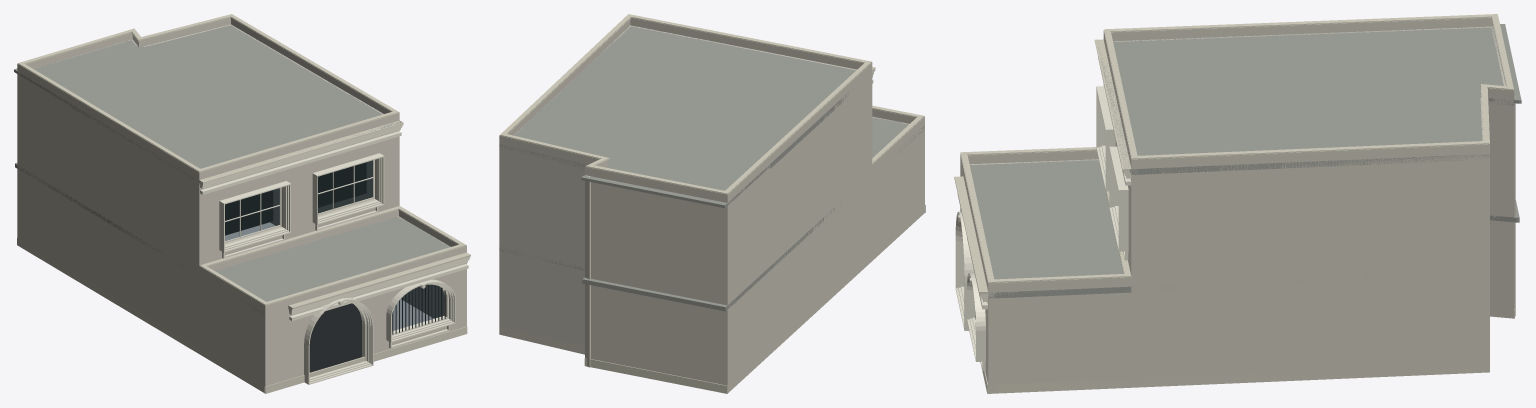
The model's file is building.glb.
3 views of the same model, side by side, from view 1: azimuth 30°, elevation 25°; view 2: azimuth 150°, elevation 25°; view 3: azimuth 270°, elevation 25° (orthographic). The views are drawn at different scales.
Visible parts, largest first — view 1: house:0/edge0/z0/house:0/edge0/z0/wall_0_0, roof/house:0/roof_slab#0001, roof/garage:0/roof_slab#0001, house:0/edge1/z0/house:0/edge1/z0/wall_0_0/core0, garage:0/edge0/z0/garage:0/edge0/z0/wall_0_0, roof/house:0/parapet#0001, roof/garage:0/parapet#0001, roof/house:0/parapet_cap#0002, garage:0/edge2/z0/opening_u0.79_v0.05/gate_panel#0001, house:0/edge1/z0/opening_u4.96_v3.90/glazing#0001, house:0/edge1/z0/opening_u0.98_v3.90/glazing#0001, roof/garage:0/parapet_cap#0002 (+30 smaller); view 2: roof/house:0/roof_slab#0001, house:0/edge0/z0/house:0/edge0/z0/wall_0_0, house:0/edge5/z0/house:0/edge5/z0/wall_0_0/core0, house:0/edge3/z0/house:0/edge3/z0/wall_0_0, roof/house:0/parapet#0001, garage:0/edge0/z0/garage:0/edge0/z0/wall_0_0, roof/house:0/parapet_cap#0002, roof/house:0/parapet_cap#0001, house:0/edge5/z0/plinth#0001, house:0/edge4/z0/house:0/edge4/z0/wall_0_0, house:0/edge5/z0/floor_slab#0001, house:0/edge5/z0/top_cornice#0001 (+6 smaller); view 3: house:0/edge2/z0/house:0/edge2/z0/wall_0_0, roof/house:0/roof_slab#0001, roof/garage:0/roof_slab#0001, garage:0/edge3/z0/garage:0/edge3/z0/wall_0_0/core0, roof/house:0/parapet#0001, house:0/edge4/z0/house:0/edge4/z0/wall_0_0, roof/house:0/parapet_cap#0002, roof/garage:0/parapet#0001, roof/house:0/parapet_cap#0001, roof/garage:0/parapet_cap#0002, house:0/edge1/z0/proj_moulded_surround_06/surround_moulding#, house:0/edge1/z0/proj_cornice_08/cornice_drip#0001/clip1 (+12 smaller).
Part boxes in pixels (box(x1,y1,x2,y2)): house:0/edge0/z0/house:0/edge0/z0/wall_0_0: box(17, 73, 199, 353); roof/house:0/roof_slab#0001: box(33, 25, 382, 168); roof/garage:0/roof_slab#0001: box(215, 216, 450, 314); house:0/edge1/z0/house:0/edge1/z0/wall_0_0/core0: box(199, 131, 394, 265); garage:0/edge0/z0/garage:0/edge0/z0/wall_0_0: box(199, 274, 265, 392); roof/house:0/parapet#0001: box(17, 18, 399, 179); roof/garage:0/parapet#0001: box(199, 210, 466, 312); roof/house:0/parapet_cap#0002: box(18, 14, 399, 171); garage:0/edge2/z0/opening_u0.79_v0.05/gate_panel#0001: box(309, 303, 361, 372); house:0/edge1/z0/opening_u4.96_v3.90/glazing#0001: box(318, 160, 372, 213); house:0/edge1/z0/opening_u0.98_v3.90/glazing#0001: box(225, 188, 279, 240); roof/garage:0/parapet_cap#0002: box(199, 206, 465, 304); roof/house:0/roof_slab#0001: box(499, 25, 855, 190); house:0/edge0/z0/house:0/edge0/z0/wall_0_0: box(722, 71, 872, 392); house:0/edge5/z0/house:0/edge5/z0/wall_0_0/core0: box(591, 182, 721, 384); house:0/edge3/z0/house:0/edge3/z0/wall_0_0: box(499, 144, 587, 354); roof/house:0/parapet#0001: box(499, 19, 872, 202); garage:0/edge0/z0/garage:0/edge0/z0/wall_0_0: box(872, 125, 924, 260); roof/house:0/parapet_cap#0002: box(500, 14, 871, 194); roof/house:0/parapet_cap#0001: box(499, 17, 872, 195); house:0/edge5/z0/plinth#0001: box(584, 358, 727, 393); house:0/edge4/z0/house:0/edge4/z0/wall_0_0: box(585, 175, 590, 367); house:0/edge5/z0/floor_slab#0001: box(582, 278, 727, 311); house:0/edge5/z0/top_cornice#0001: box(581, 175, 727, 208); house:0/edge2/z0/house:0/edge2/z0/wall_0_0: box(1130, 154, 1489, 387); roof/house:0/roof_slab#0001: box(1113, 27, 1513, 174); roof/garage:0/roof_slab#0001: box(970, 159, 1131, 298); garage:0/edge3/z0/garage:0/edge3/z0/wall_0_0/core0: box(995, 289, 1131, 392); roof/house:0/parapet#0001: box(1103, 19, 1514, 169); house:0/edge4/z0/house:0/edge4/z0/wall_0_0: box(1488, 97, 1515, 318); roof/house:0/parapet_cap#0002: box(1104, 14, 1513, 159); roof/garage:0/parapet#0001: box(960, 152, 1131, 292); roof/house:0/parapet_cap#0001: box(1103, 14, 1514, 160); roof/garage:0/parapet_cap#0002: box(960, 147, 1130, 282); house:0/edge1/z0/proj_moulded_surround_06/surround_moulding#: box(1109, 146, 1128, 251); house:0/edge1/z0/proj_cornice_08/cornice_drip#0001/clip1: box(1094, 39, 1131, 169).
Size of the model in its own units: 9.98 by 7.02 by 15.75.
